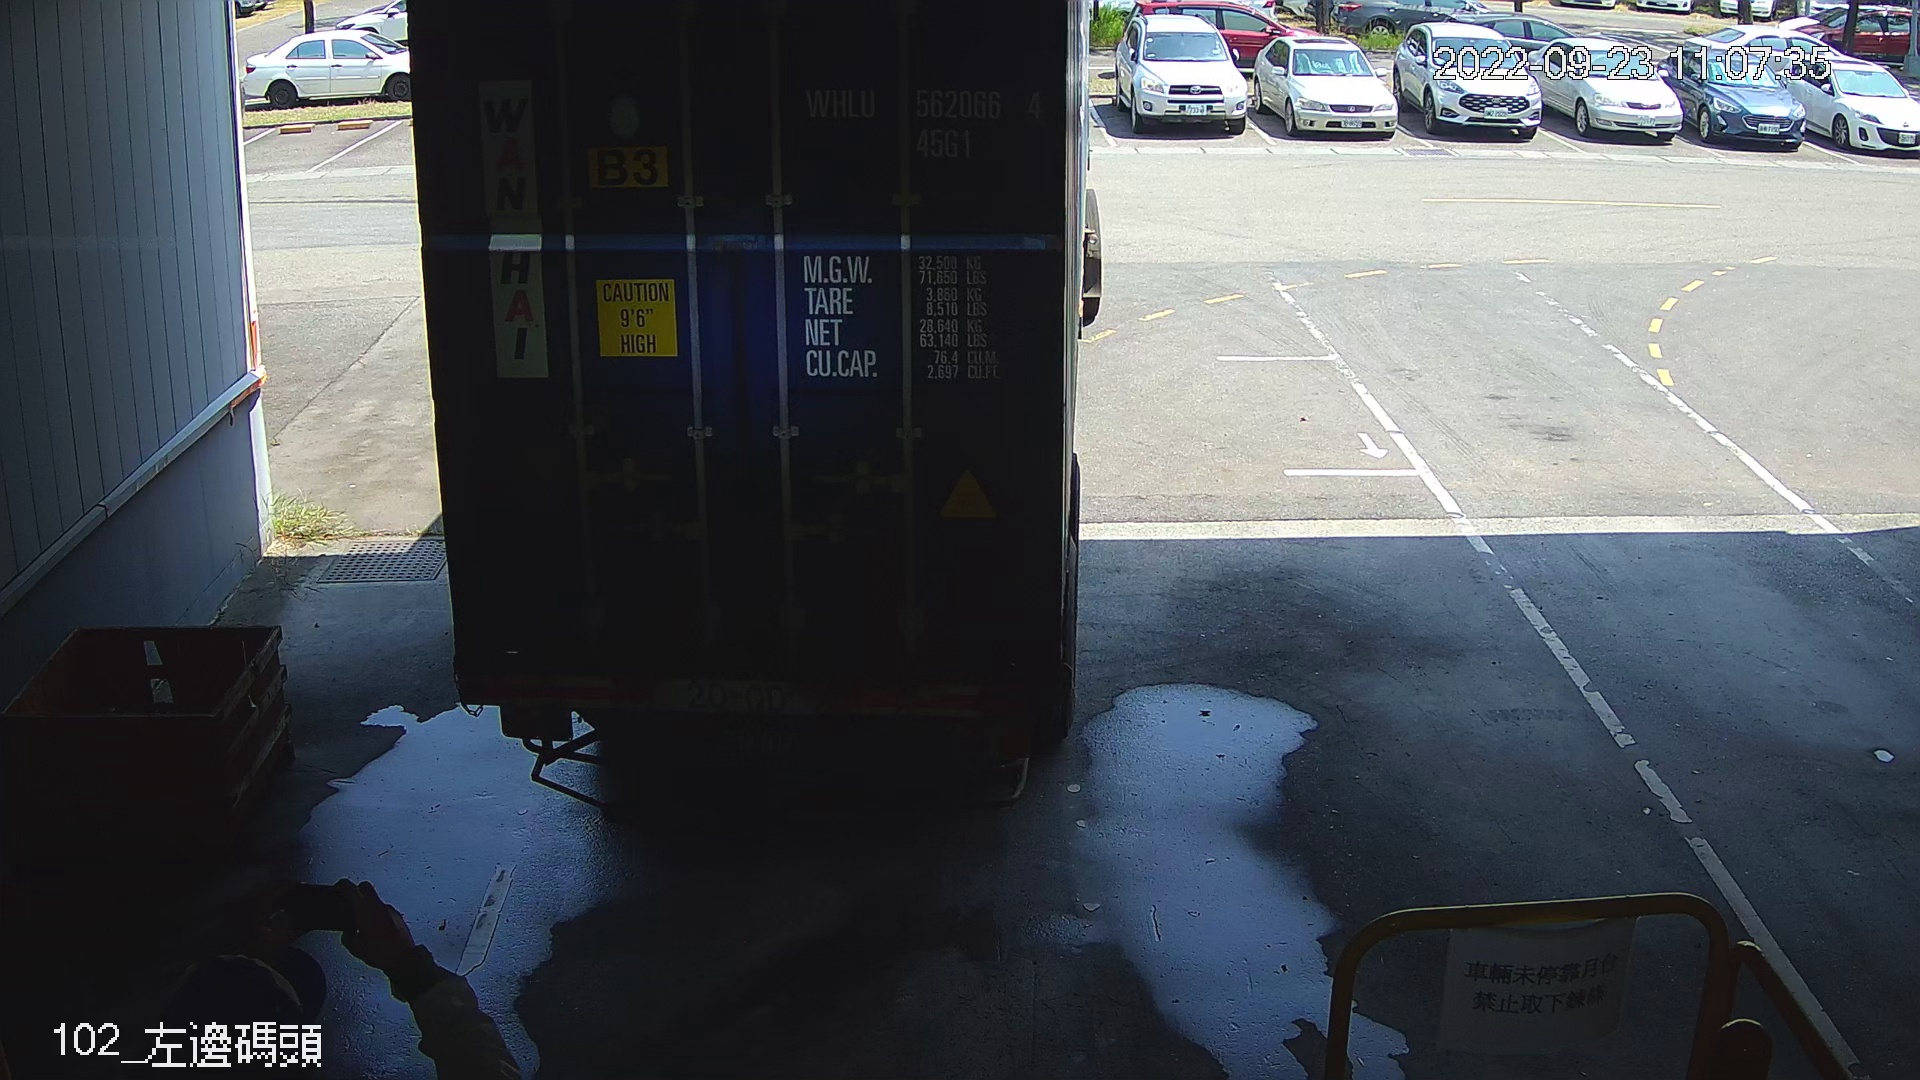container: (785, 70, 1054, 169)
